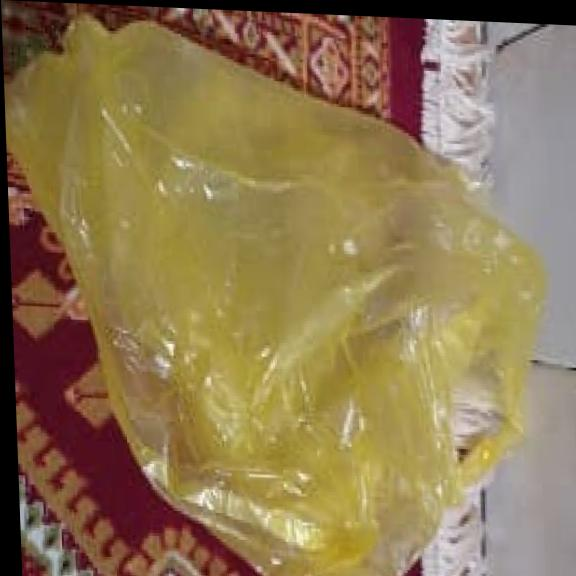Plastik: (5, 20, 545, 576)
